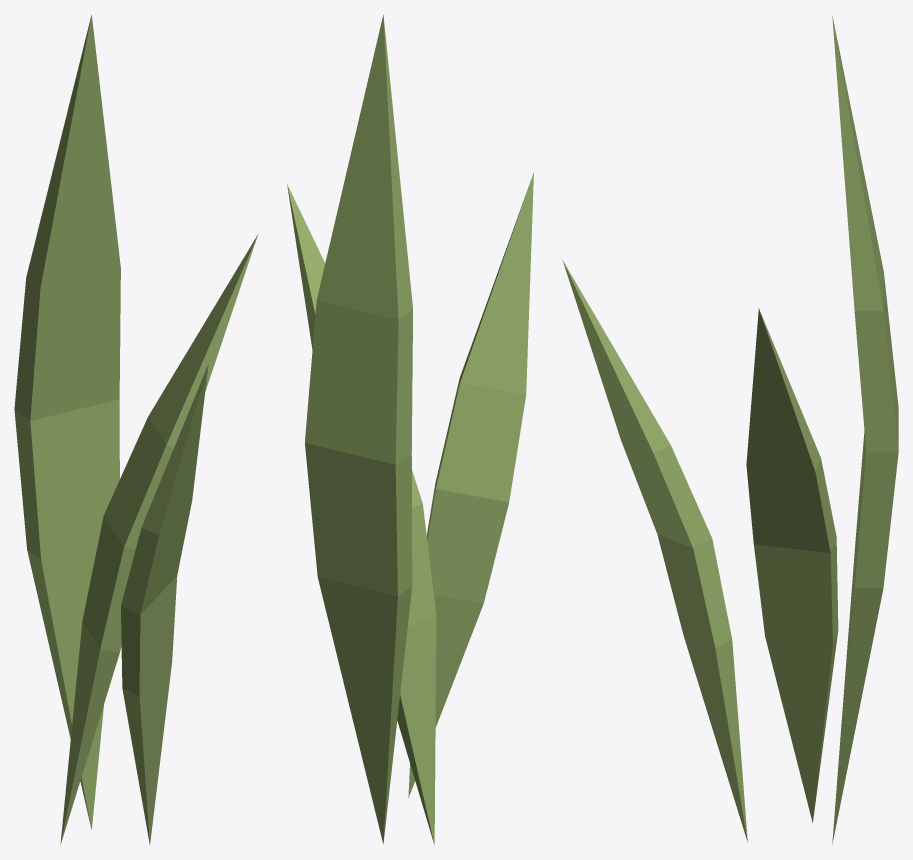
The model's file is Grass_3.fbx.
3 views of the same model, side by side, from view 1: azimuth 30°, elevation 25°; view 2: azimuth 150°, elevation 25°; view 3: azimuth 270°, elevation 25° (orthographic).
Visible parts, largest first — view 1: Grass_3; view 2: Grass_3; view 3: Grass_3.
Boxes of the visible parts, bbox=[...] form: Grass_3: bbox=[14, 15, 258, 844]; Grass_3: bbox=[287, 15, 533, 844]; Grass_3: bbox=[562, 16, 898, 843].
Bounding box in the file's own units: 10.26 × 44.98 × 16.48.
